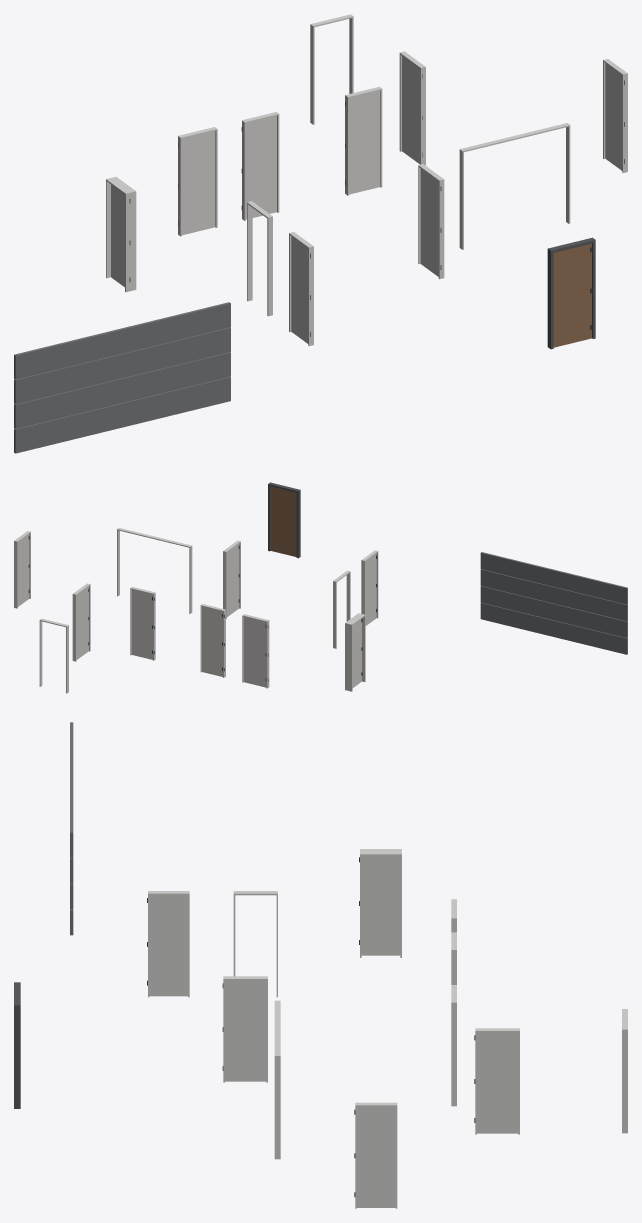
The model's file is doors.glb.
3 renders of one model, top to bottom at view 1: azimuth 30°, elevation 25°; view 2: azimuth 150°, elevation 25°; view 3: azimuth 270°, elevation 25°, orthographic. The views are drawn at different scales.
Visible parts, largest first — view 1: doors.garage.vehicle_door.door, doors.entry.front_door.leaf, doors.bed3.door.leaf, doors.wc.door.leaf, doors.bathroom.door.leaf, doors.garage.door.lining, doors.master.door.leaf, doors.bed2.door.leaf, doors.ensuite.door.leaf, doors.laundry.door.leaf, doors.kitchen.servery.lining, doors.entry.front_door.frame (+10 smaller); view 2: doors.garage.vehicle_door.door, doors.entry.front_door.leaf, doors.bed3.door.leaf, doors.wc.door.leaf, doors.bathroom.door.leaf, doors.garage.door.lining, doors.bed2.door.leaf, doors.master.door.leaf, doors.ensuite.door.leaf, doors.laundry.door.leaf, doors.kitchen.servery.lining, doors.entry.front_door.frame (+10 smaller); view 3: doors.master.door.leaf, doors.bed2.door.leaf, doors.garage.door.leaf, doors.ensuite.door.leaf, doors.laundry.door.leaf, doors.kitchen.servery.lining, doors.entry.front_door.frame, doors.garage.vehicle_door.door, doors.bed4.opening.lining, doors.wc.door.lining, doors.laundry.door.lining, doors.garage.door.lining (+1 smaller).
Part boxes in pixels (box(x1,y1,x2,y2)): doors.garage.vehicle_door.door: box(14, 302, 230, 453); doors.entry.front_door.leaf: box(553, 243, 591, 347); doors.bed3.door.leaf: box(182, 131, 215, 235); doors.wc.door.leaf: box(349, 91, 380, 194); doors.bathroom.door.leaf: box(246, 116, 276, 219); doors.garage.door.lining: box(106, 176, 136, 292); doors.master.door.leaf: box(420, 168, 438, 276); doors.bed2.door.leaf: box(402, 56, 420, 164); doors.ensuite.door.leaf: box(291, 236, 308, 343); doors.laundry.door.leaf: box(605, 63, 622, 170); doors.kitchen.servery.lining: box(459, 123, 570, 249); doors.entry.front_door.frame: box(547, 237, 595, 349); doors.garage.vehicle_door.door: box(480, 552, 627, 654); doors.entry.front_door.leaf: box(270, 486, 296, 556); doors.bed3.door.leaf: box(244, 617, 266, 687); doors.wc.door.leaf: box(132, 589, 152, 659); doors.bathroom.door.leaf: box(202, 606, 222, 676); doors.garage.door.lining: box(345, 613, 365, 691); doors.bed2.door.leaf: box(76, 586, 88, 659); doors.master.door.leaf: box(227, 544, 239, 616); doors.ensuite.door.leaf: box(365, 553, 376, 625); doors.laundry.door.leaf: box(18, 534, 29, 606); doors.kitchen.servery.lining: box(117, 528, 192, 613); doors.entry.front_door.frame: box(268, 482, 300, 558); doors.master.door.leaf: box(225, 980, 266, 1081); doors.bed2.door.leaf: box(477, 1032, 518, 1133); doors.garage.door.leaf: box(361, 856, 400, 955); doors.ensuite.door.leaf: box(149, 895, 187, 996); doors.laundry.door.leaf: box(357, 1106, 395, 1207); doors.kitchen.servery.lining: box(274, 1000, 280, 1159); doors.entry.front_door.frame: box(14, 982, 20, 1108); doors.garage.vehicle_door.door: box(70, 722, 73, 935); doors.bed4.opening.lining: box(622, 1009, 627, 1133); doors.wc.door.lining: box(451, 985, 456, 1106); doors.laundry.door.lining: box(355, 1102, 397, 1208); doors.garage.door.lining: box(360, 849, 401, 957).
Bounding box in the file's own units: 16.67 × 2.1 × 11.28.
